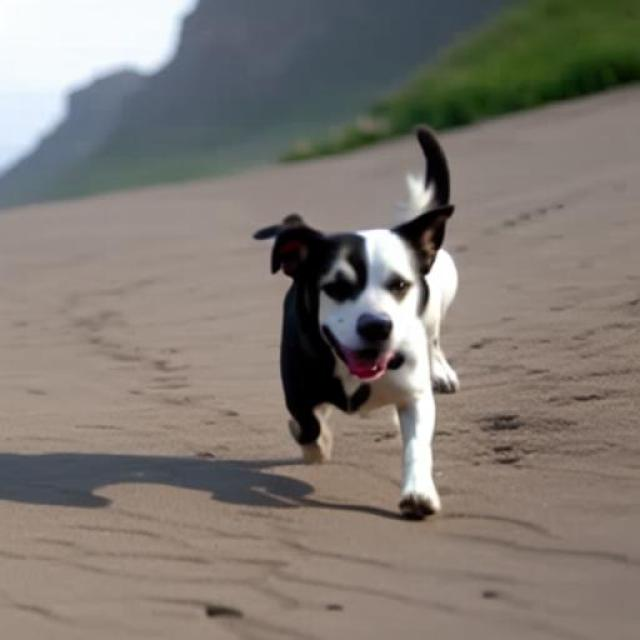Dog: (253, 125, 459, 521)
